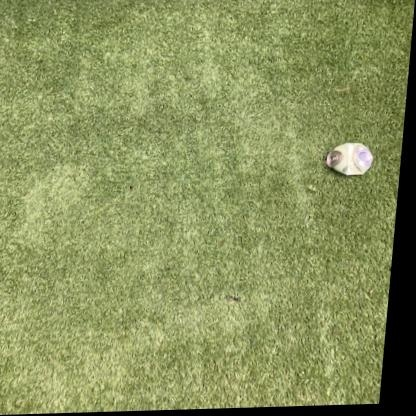trash: (325, 143, 372, 174)
